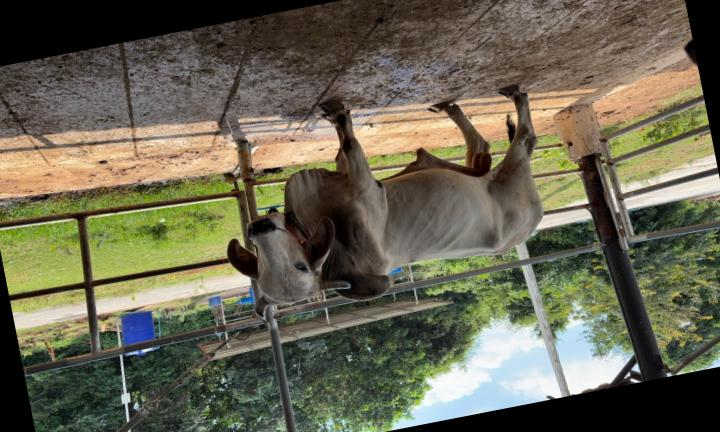Brahman: (227, 85, 543, 316)
